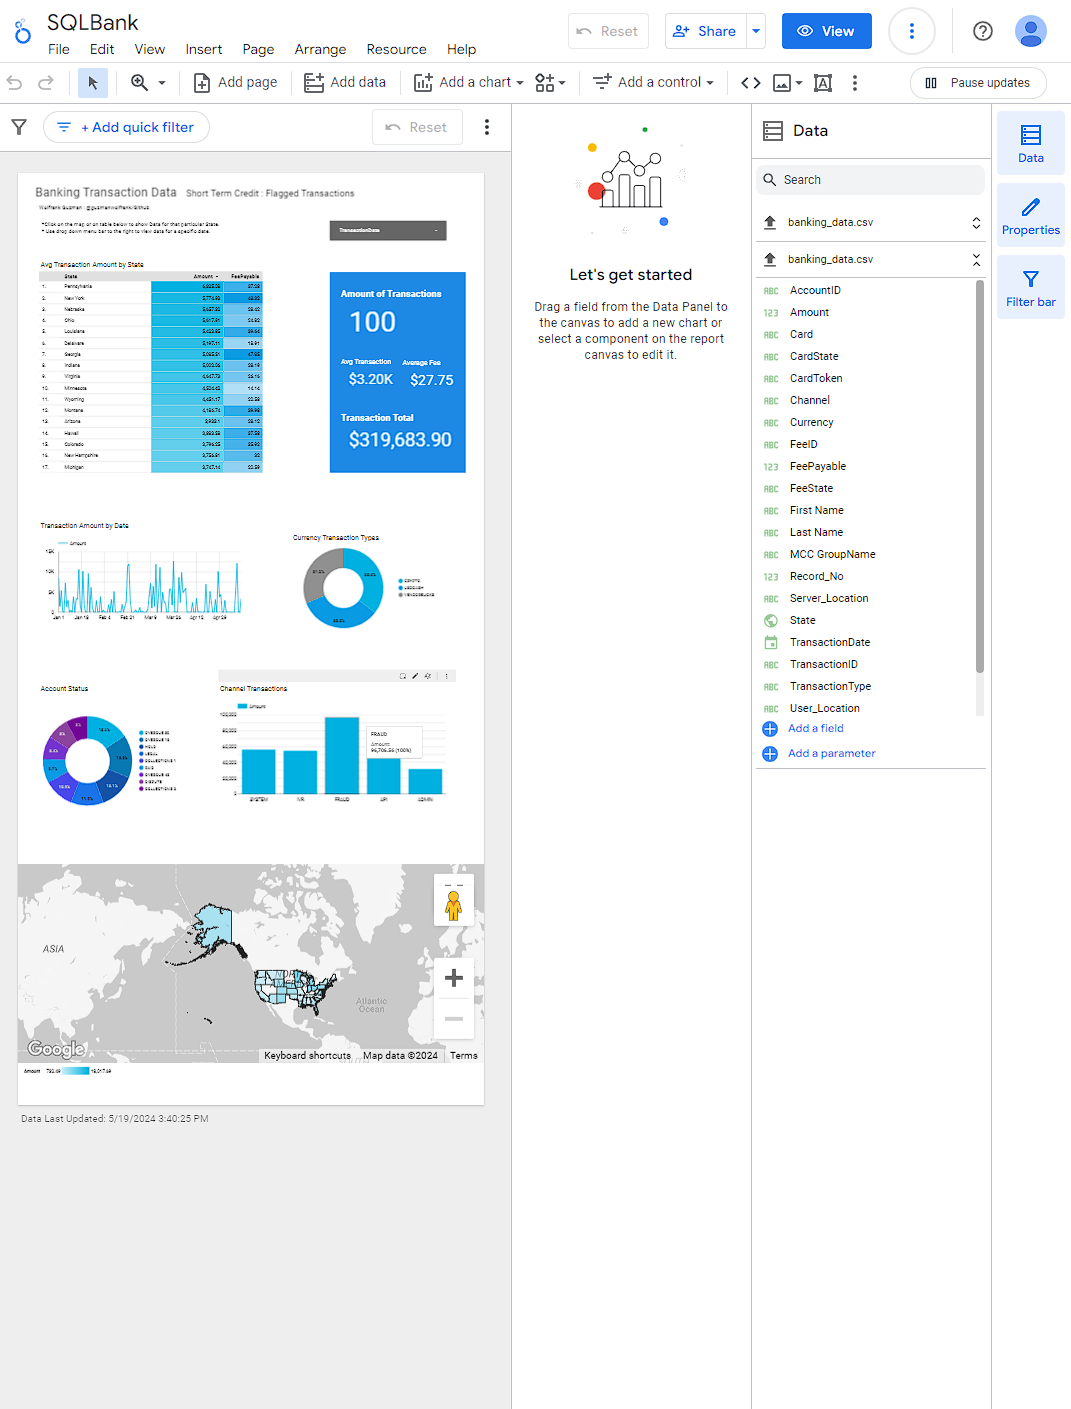

Layout of this report page (visuals, bound fields, positions):
{"tool":"tableau","page":{"name":"Dashboard 1","canvas":[1000,1000],"units":"permille","ordinal":0},"visuals":[{"type":"text","box":[5,8.9,990.1,36.3]},{"type":"text","box":[5,45.2,990.1,72]},{"type":"worksheet","title":"Heatmap","mark":"Square","rows":["NEIGHBORHOOD"],"box":[5,117.2,495.1,436.9]},{"type":"worksheet","title":"Bar3","mark":"Automatic","rows":["NEIGHBORHOOD"],"cols":["SALE_PRICE"],"box":[500,117.2,495.1,436.9]},{"type":"worksheet","title":"Map","mark":"Automatic","box":[5,554.1,326.5,436.9]},{"type":"worksheet","title":"Bar","mark":"Automatic","rows":["ZIP_CODE"],"cols":["SALE_PRICE"],"box":[331.4,554.1,326.6,436.9]},{"type":"worksheet","title":"Line","mark":"Automatic","rows":["SALE_PRICE"],"cols":["SALE_DATE"],"box":[658,554.1,337,436.9]}]}

Visuals, with their boxes on the dashboard's canvas, which has no fixed pixel size, in thousandths of its width and height (x1, y1, x2, y2). These are canvas units, not pixel positions in the 1071x1409 screenshot, which may show the page scaled, cropped or inside an application window:
text: l=5, t=9, r=995, b=45
text: l=5, t=45, r=995, b=117
"Heatmap" worksheet (Square marks): l=5, t=117, r=500, b=554
"Bar3" worksheet: l=500, t=117, r=995, b=554
"Map" worksheet: l=5, t=554, r=332, b=991
"Bar" worksheet: l=331, t=554, r=658, b=991
"Line" worksheet: l=658, t=554, r=995, b=991
